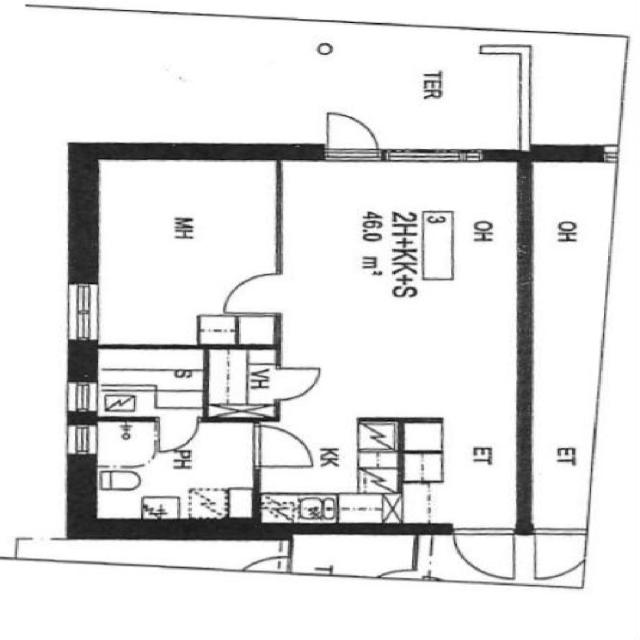door: (440, 520, 521, 582), (313, 108, 387, 163), (211, 266, 289, 318), (520, 526, 588, 584), (248, 422, 321, 474), (264, 360, 329, 404), (150, 412, 204, 455), (238, 542, 296, 575)
window: (379, 142, 494, 171), (62, 275, 104, 351), (62, 420, 98, 462), (60, 377, 96, 416)
zone: (278, 157, 532, 439), (87, 156, 278, 346), (91, 418, 256, 528), (257, 419, 402, 526), (397, 415, 523, 528), (84, 345, 209, 420), (286, 531, 422, 579), (205, 346, 281, 418), (252, 418, 332, 484)
